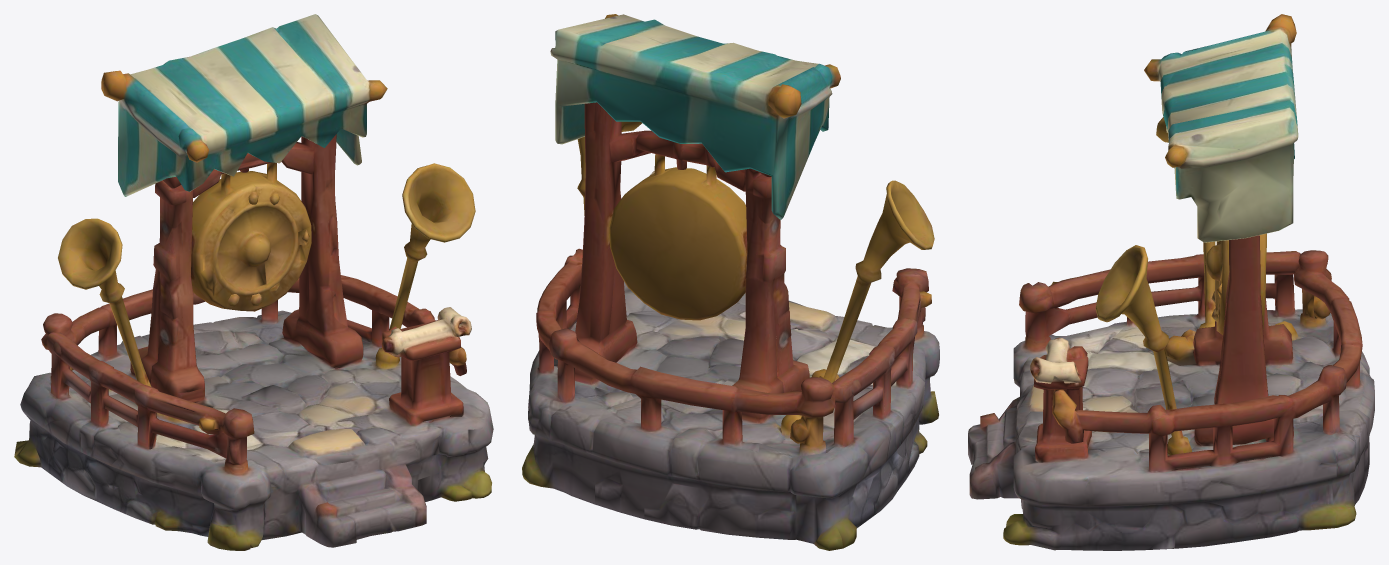
3 renders of one model, left to right at view 1: azimuth 30°, elevation 25°; view 2: azimuth 150°, elevation 25°; view 3: azimuth 270°, elevation 25°, orthographic. The views are drawn at different scales.
Visible parts, largest first — view 1: tripo_node_51c6200b-9836-42ec-bb15-19a84798dd2c; view 2: tripo_node_51c6200b-9836-42ec-bb15-19a84798dd2c; view 3: tripo_node_51c6200b-9836-42ec-bb15-19a84798dd2c.
Boxes of the visible parts, <box> form: tripo_node_51c6200b-9836-42ec-bb15-19a84798dd2c: <box>14,14,493,550</box>; tripo_node_51c6200b-9836-42ec-bb15-19a84798dd2c: <box>522,14,939,550</box>; tripo_node_51c6200b-9836-42ec-bb15-19a84798dd2c: <box>968,14,1374,550</box>.
Bounding box in the file's own units: 1 × 1 × 0.9061.
Materials: 1 (1 with a texture image).
